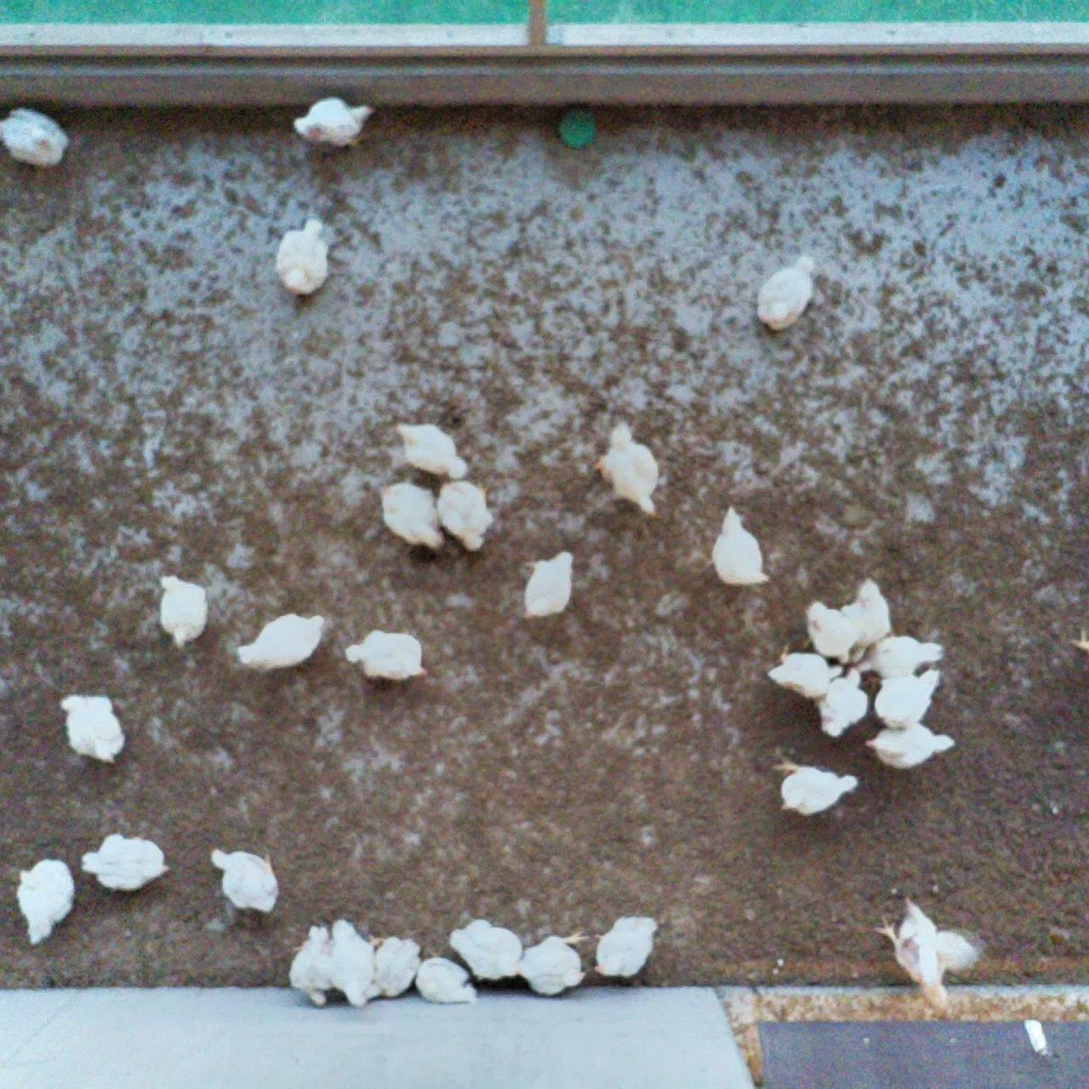chicken: (871, 892, 986, 1013), (592, 418, 669, 520), (769, 748, 861, 827), (76, 830, 173, 896), (708, 506, 777, 593), (203, 843, 284, 916), (238, 610, 326, 677), (12, 855, 76, 946), (754, 254, 818, 342), (446, 915, 523, 986), (515, 931, 593, 1000), (272, 212, 333, 300), (339, 628, 433, 685), (59, 690, 128, 767), (292, 90, 375, 154), (391, 419, 473, 483), (763, 638, 844, 700), (517, 545, 580, 624), (436, 472, 495, 556), (874, 664, 944, 734), (0, 101, 71, 170), (593, 912, 660, 985), (381, 480, 446, 555), (286, 923, 342, 1009), (151, 571, 213, 647), (327, 918, 378, 1009), (864, 724, 958, 770), (815, 662, 870, 740), (859, 628, 948, 675), (852, 573, 895, 667), (412, 947, 479, 1007), (364, 936, 424, 1001), (802, 598, 850, 670)
